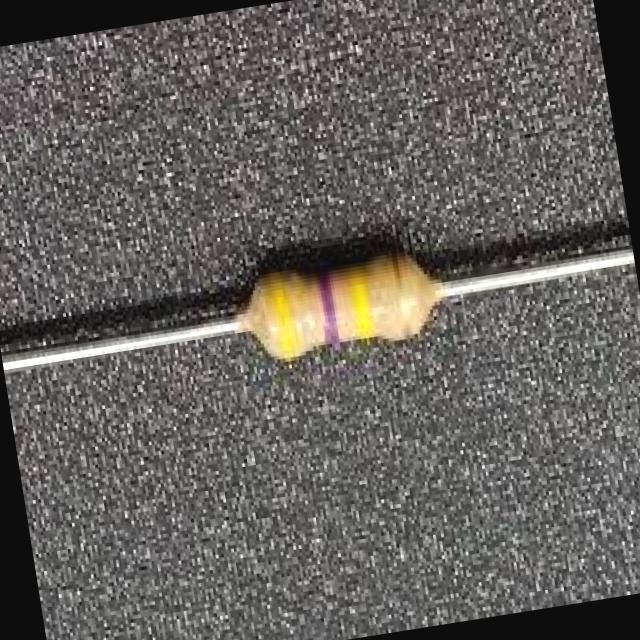Resistor: (238, 256, 437, 362)
gold: (390, 242, 417, 333)
purple: (318, 260, 341, 345)
yellow: (271, 268, 301, 363), (350, 262, 375, 334)
